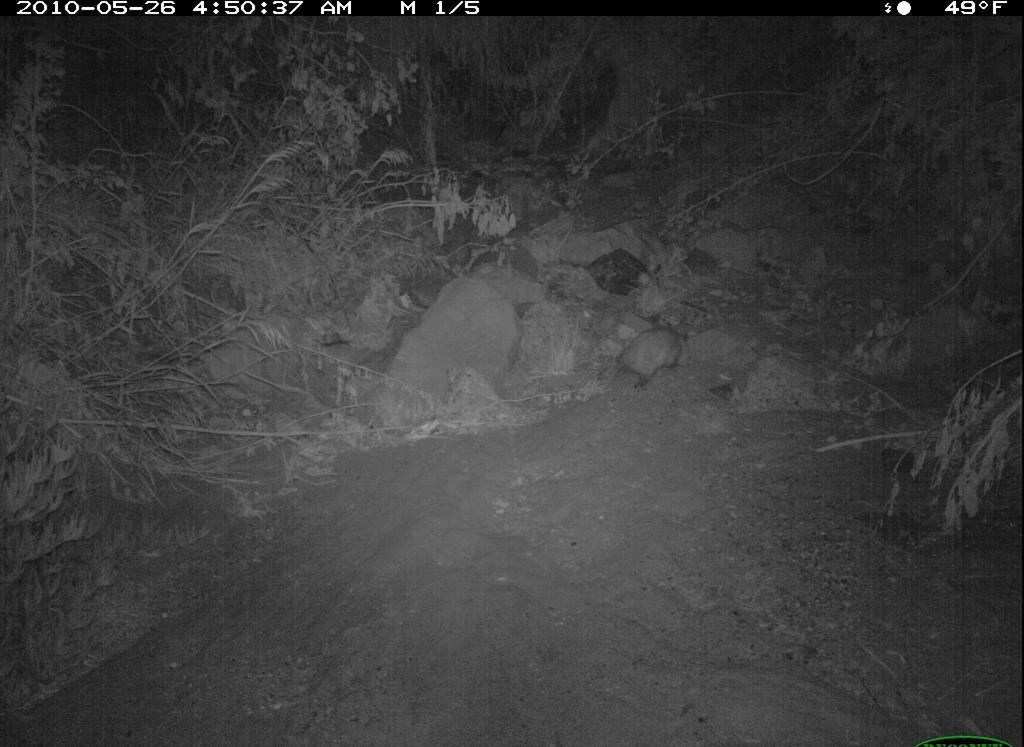opossum: (594, 317, 698, 400)
